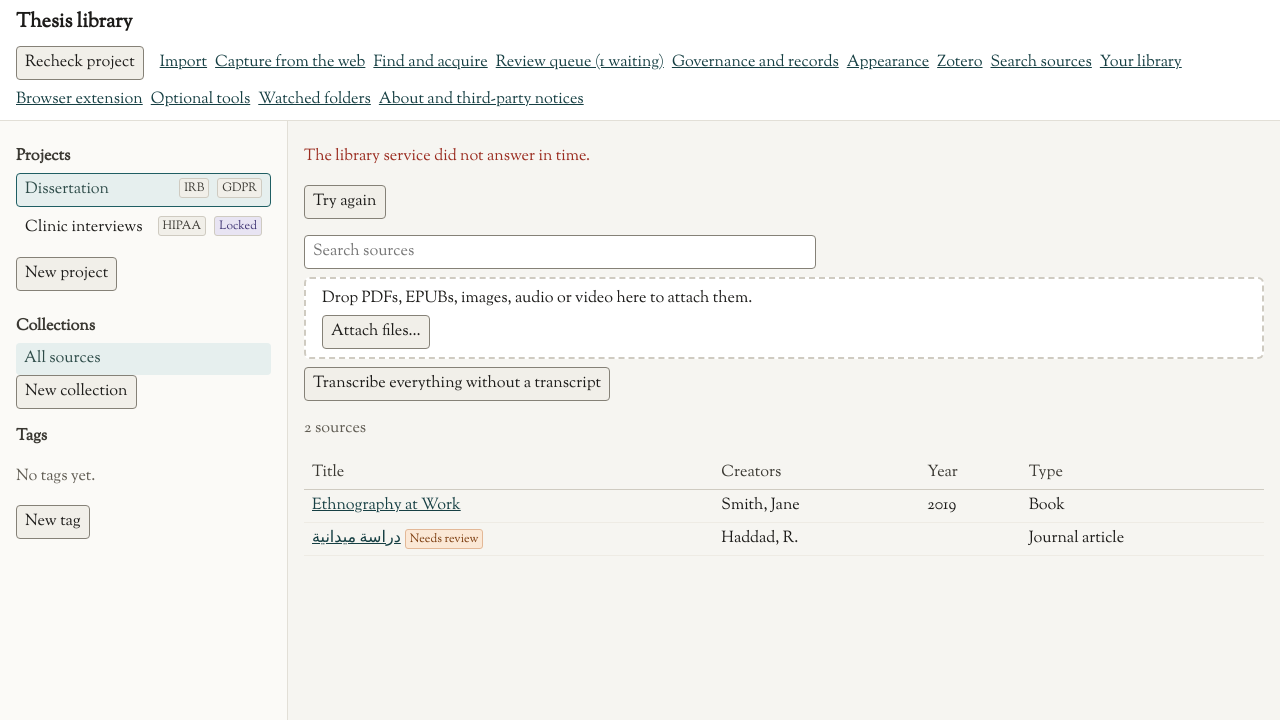
Library: first reads that never settle or fail (FR-756 B) › collections and tags that hang are given up at the limit with the alert and “Try again”, which reads them again
Expected: the text "Ethnography at Work" is shown, [312,494,461,517]
Click the button "Try again" at (345, 202), box [304,185,386,219]
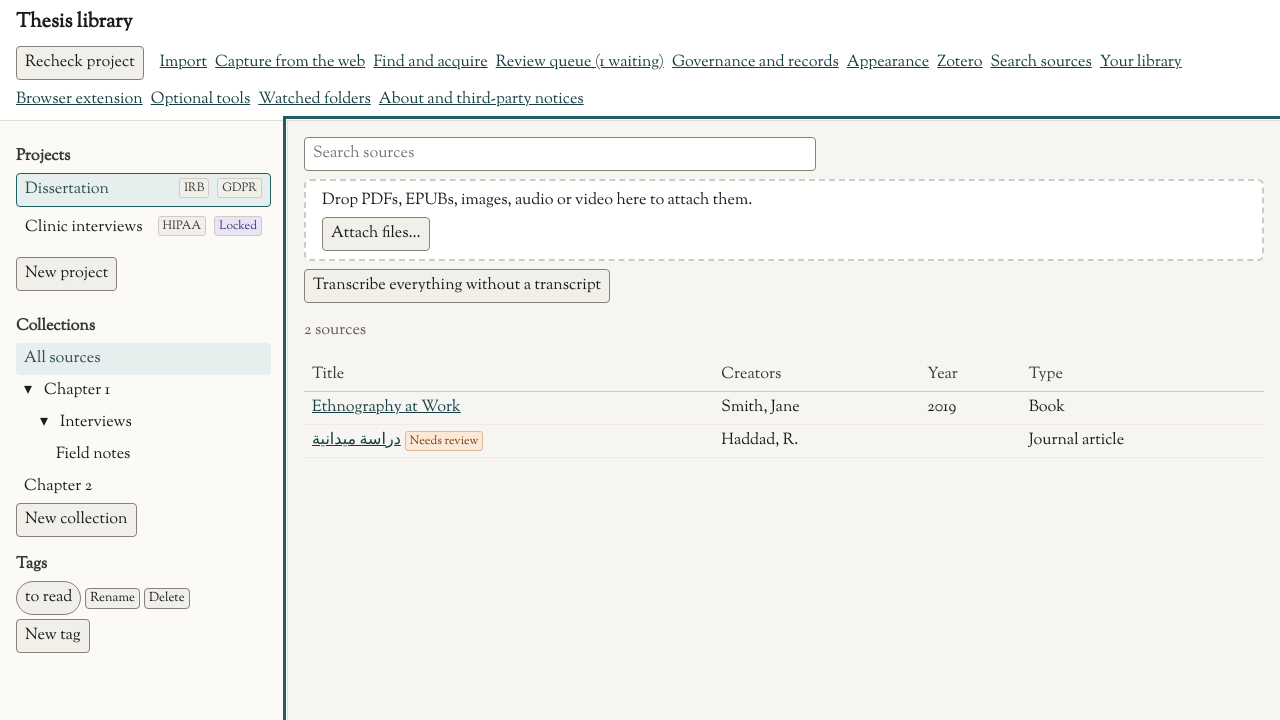
Expected: the text "to read" is shown, [25,586,72,609]
Expected: the button "Try again" is gone
